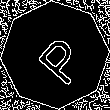P_NW: (24, 24, 86, 86)
